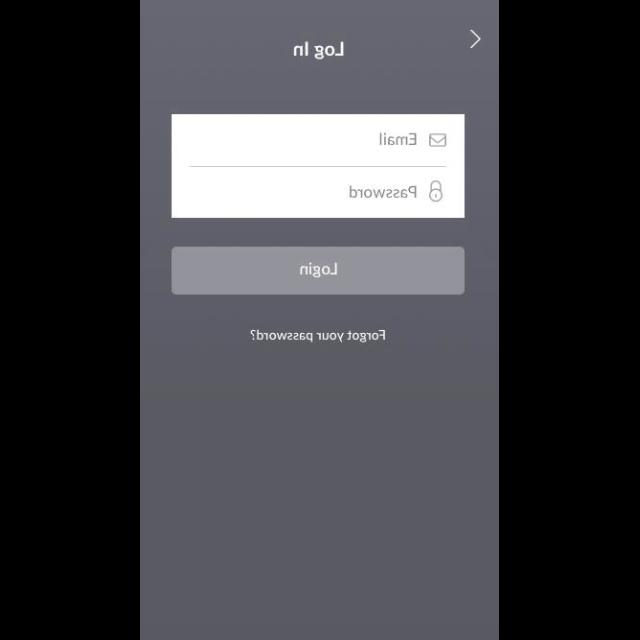icon: (428, 180, 444, 203), (468, 30, 482, 50), (429, 134, 447, 148)
input: (172, 116, 466, 166), (172, 168, 466, 218)
text: (251, 329, 387, 343), (293, 41, 345, 61), (348, 185, 418, 199), (379, 133, 417, 147)
textbutton: (172, 247, 464, 295)
